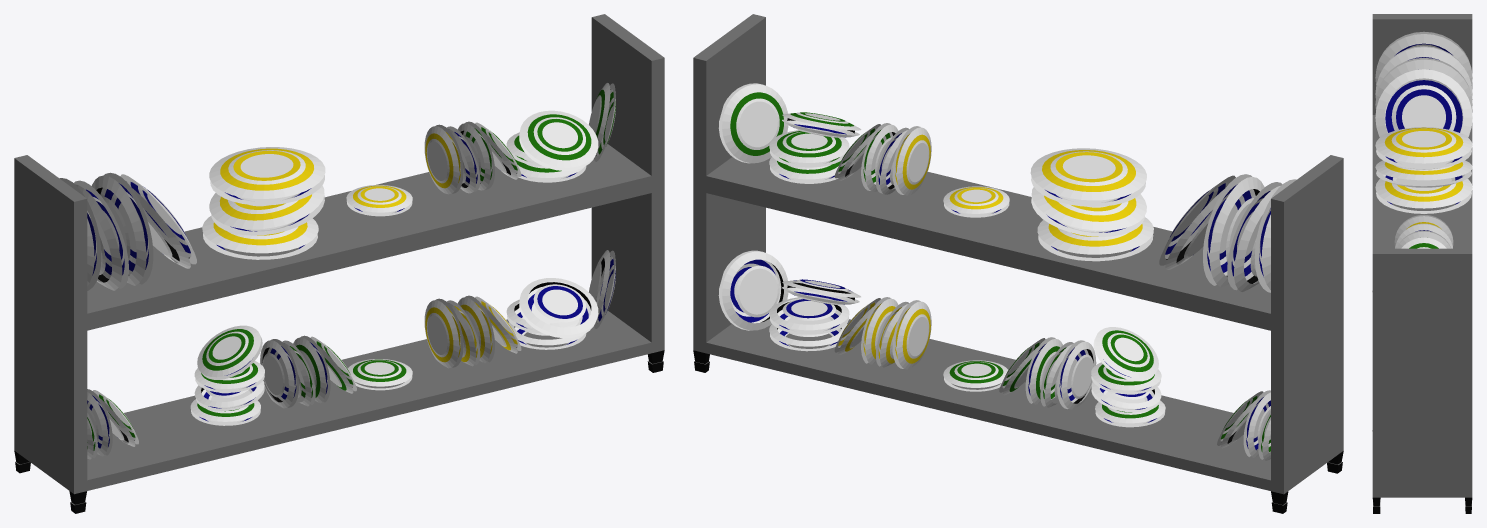
File: LevitationDiscCounter 1.fbx
3 renders of one model, left to right at view 1: azimuth 30°, elevation 25°; view 2: azimuth 150°, elevation 25°; view 3: azimuth 270°, elevation 25°, orthographic. The views are drawn at different scales.
Parts seen in each view (by area): view 1: Cube, Circle; view 2: Cube, Circle; view 3: Cube, Circle.
Part boxes in pixels (x1,y1,x2,y2): Cube: (14,14,664,513); Circle: (59,83,615,459); Cube: (693,14,1343,513); Circle: (718,83,1296,460); Cube: (1372,14,1472,513); Circle: (1372,31,1472,431).
Bounding box in the file's own units: 242 × 42.8 × 123.
